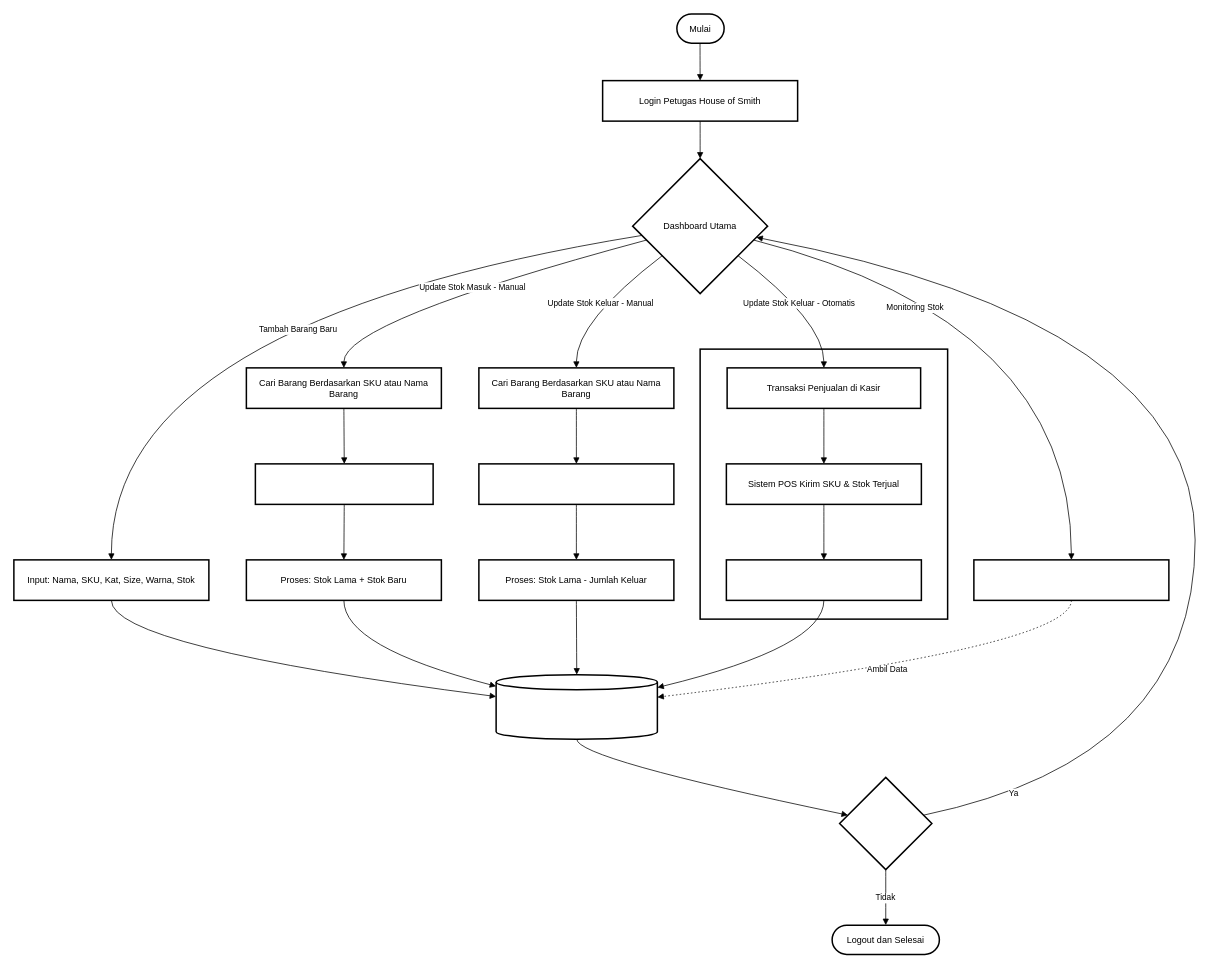
Image size: 1208x968. Some labels were removed from this diagram. Each missing label, with the centre of its shape:
Aksi Lain?: pixel 885 823
Database: pixel 576 707
Input Jumlah dan Alasan: Rusak/Hilang: pixel 576 484
Input Jumlah Stok Masuk: pixel 344 484
Proses: Stok Lama - Stok Terjual: pixel 823 580
Tampilkan Tabel Stok Real-time: pixel 1071 580
